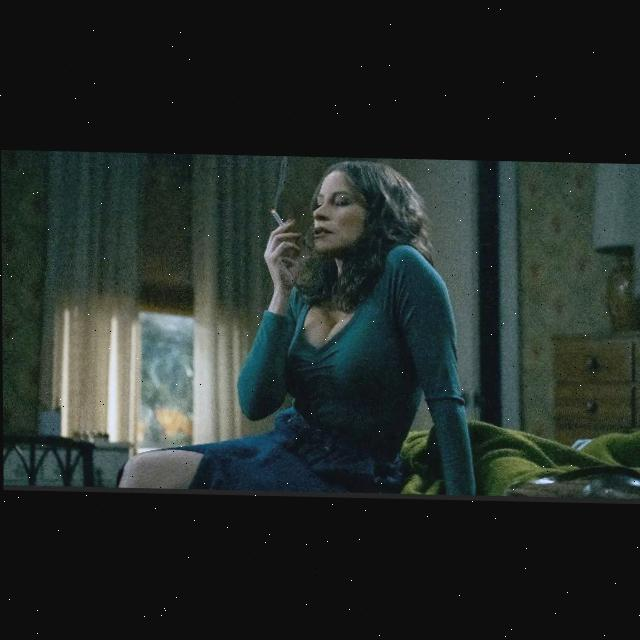cigarette: (271, 208, 285, 226)
